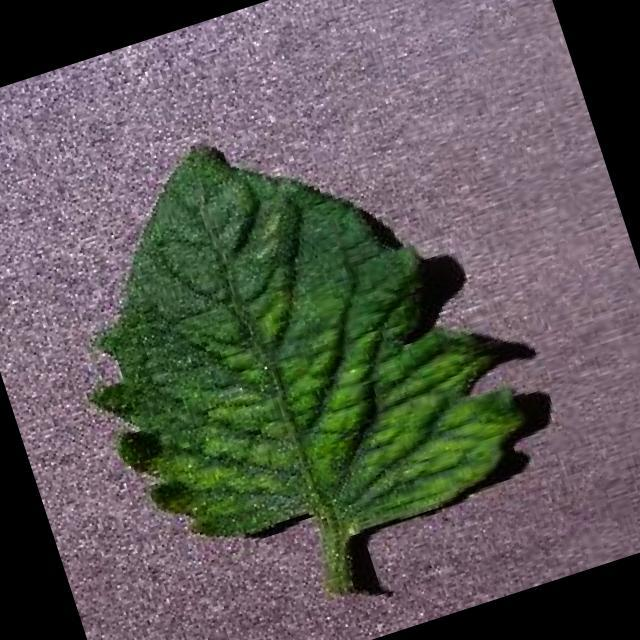Tomato mosaic virus leaf: (24, 74, 544, 602)
